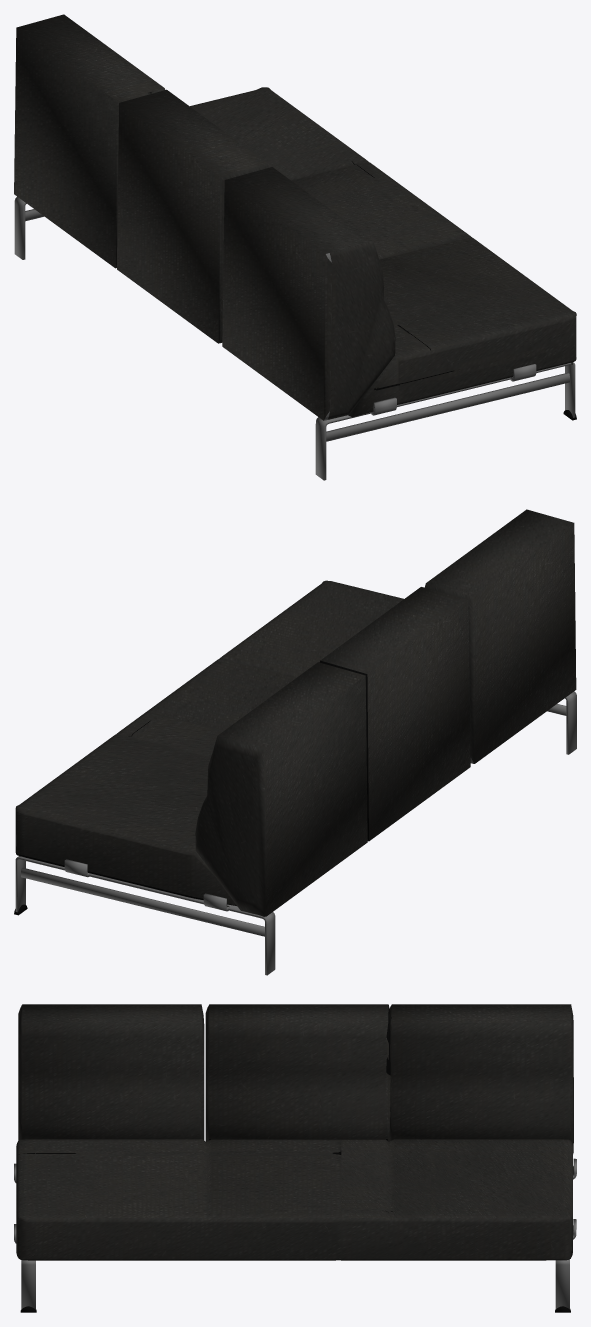
File: Bench3.fbx
3 renders of one model, top to bottom at view 1: azimuth 30°, elevation 25°; view 2: azimuth 150°, elevation 25°; view 3: azimuth 270°, elevation 25°, orthographic. The views are drawn at different scales.
Parts seen in each view (by area): view 1: Bench3; view 2: Bench3; view 3: Bench3.
Boxes of the visible parts, bbox=[...] form: Bench3: bbox=[14, 14, 576, 480]; Bench3: bbox=[14, 509, 576, 975]; Bench3: bbox=[14, 1004, 576, 1312].
Bounding box in the file's own units: 26.1 × 22.31 × 56.41.
